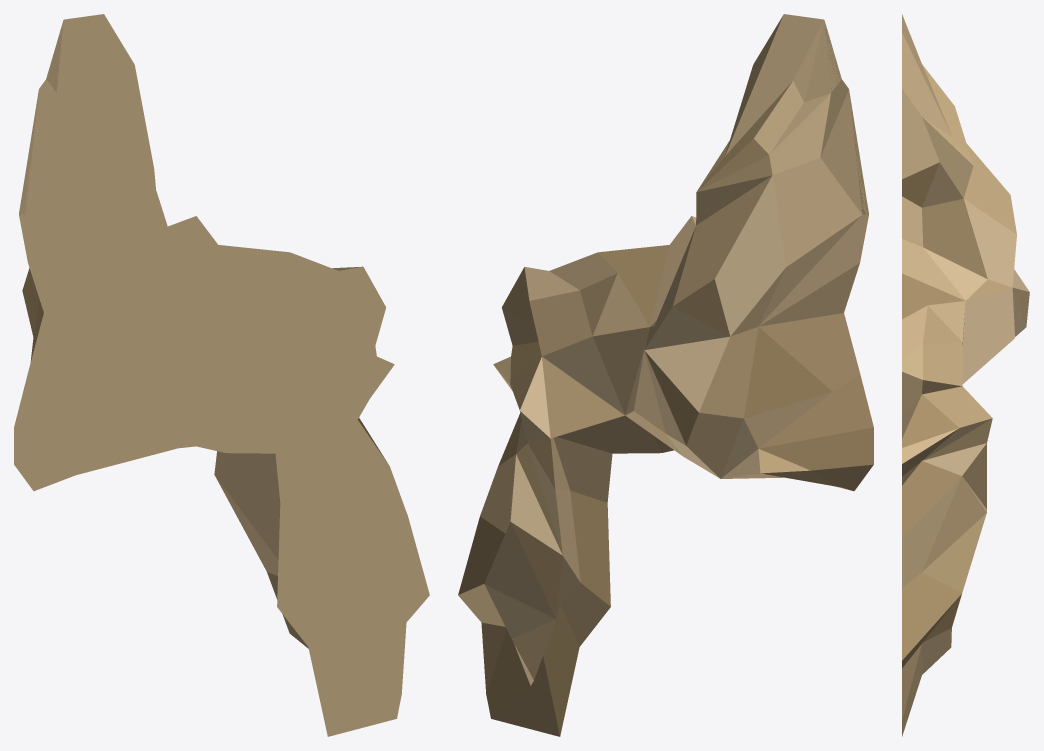
File: desert_mountain_2.fbx
3 renders of one model, left to right at view 1: azimuth 30°, elevation 25°; view 2: azimuth 150°, elevation 25°; view 3: azimuth 270°, elevation 25°, orthographic. The views are drawn at different scales.
Visible parts, largest first — view 1: desert_mountain_2; view 2: desert_mountain_2; view 3: desert_mountain_2.
Boxes of the visible parts, left/top/right/bottom form: desert_mountain_2: left=14, top=14, right=429, bottom=736; desert_mountain_2: left=458, top=14, right=873, bottom=736; desert_mountain_2: left=902, top=14, right=1029, bottom=736.
Bounding box in the file's own units: 586 × 1054 × 204.
